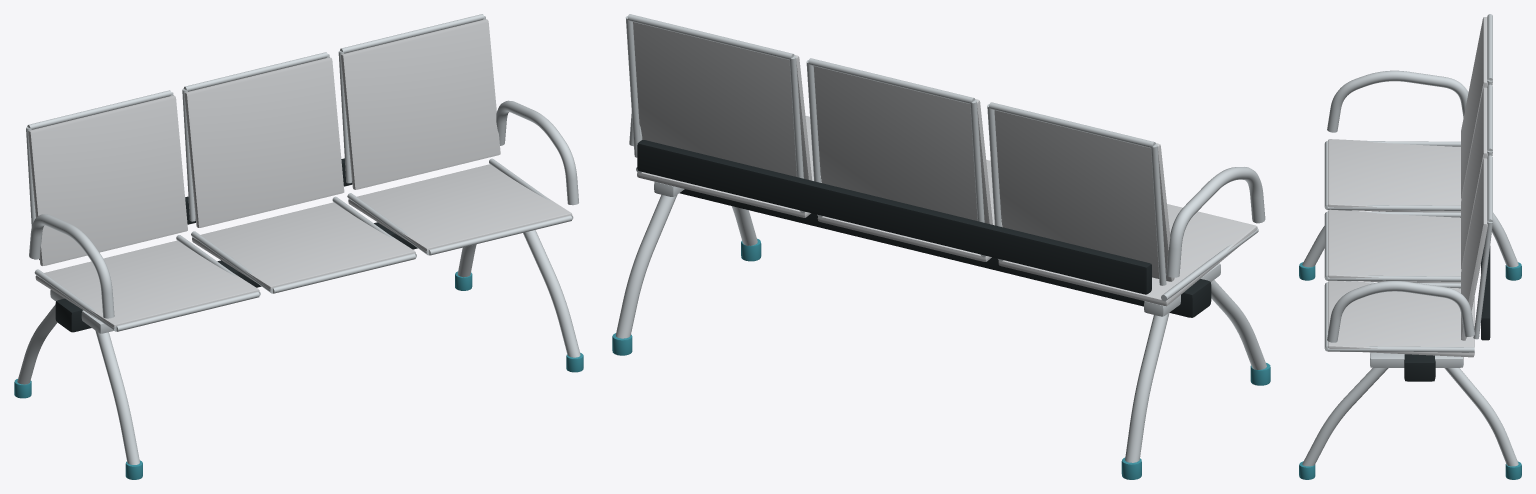
The model's file is perforated_bench.fbx.
3 views of the same model, side by side, from view 1: azimuth 30°, elevation 25°; view 2: azimuth 150°, elevation 25°; view 3: azimuth 270°, elevation 25° (orthographic). The views are drawn at different scales.
Visible parts, largest first — view 1: EQ_perforated_bench_M_PerfSteel, EQ_perforated_bench_M_Chrome, EQ_perforated_bench_M_RubberBlack, EQ_perforated_bench_M_FootCap; view 2: EQ_perforated_bench_M_PerfSteel, EQ_perforated_bench_M_RubberBlack, EQ_perforated_bench_M_Chrome, EQ_perforated_bench_M_FootCap; view 3: EQ_perforated_bench_M_PerfSteel, EQ_perforated_bench_M_Chrome, EQ_perforated_bench_M_RubberBlack, EQ_perforated_bench_M_FootCap.
Part boxes in pixels (left/top/right/bottom): EQ_perforated_bench_M_PerfSteel: left=28, top=19, right=572, bottom=327; EQ_perforated_bench_M_Chrome: left=17, top=14, right=580, bottom=464; EQ_perforated_bench_M_RubberBlack: left=39, top=158, right=417, bottom=332; EQ_perforated_bench_M_FootCap: left=14, top=271, right=583, bottom=479; EQ_perforated_bench_M_PerfSteel: left=633, top=22, right=1257, bottom=306; EQ_perforated_bench_M_RubberBlack: left=637, top=140, right=1211, bottom=317; EQ_perforated_bench_M_Chrome: left=616, top=14, right=1266, bottom=462; EQ_perforated_bench_M_FootCap: left=612, top=238, right=1270, bottom=479; EQ_perforated_bench_M_PerfSteel: left=1328, top=17, right=1487, bottom=357; EQ_perforated_bench_M_Chrome: left=1302, top=14, right=1518, bottom=466; EQ_perforated_bench_M_RubberBlack: left=1404, top=245, right=1490, bottom=381; EQ_perforated_bench_M_FootCap: left=1299, top=262, right=1521, bottom=479.
Bounding box in the file's own units: 1.62 × 0.919 × 0.712.
